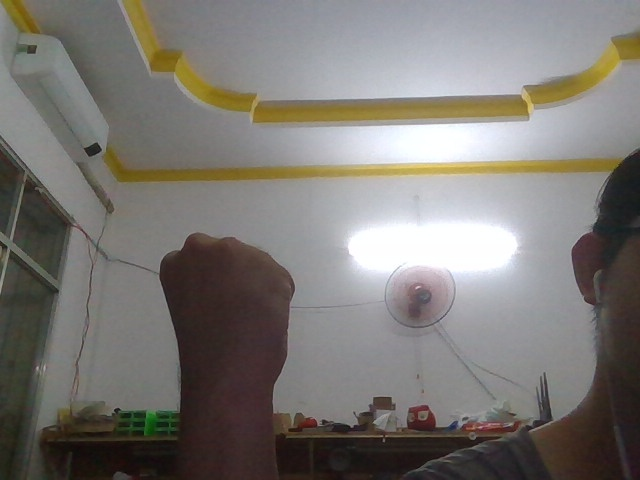fist: (107, 198, 331, 445)
